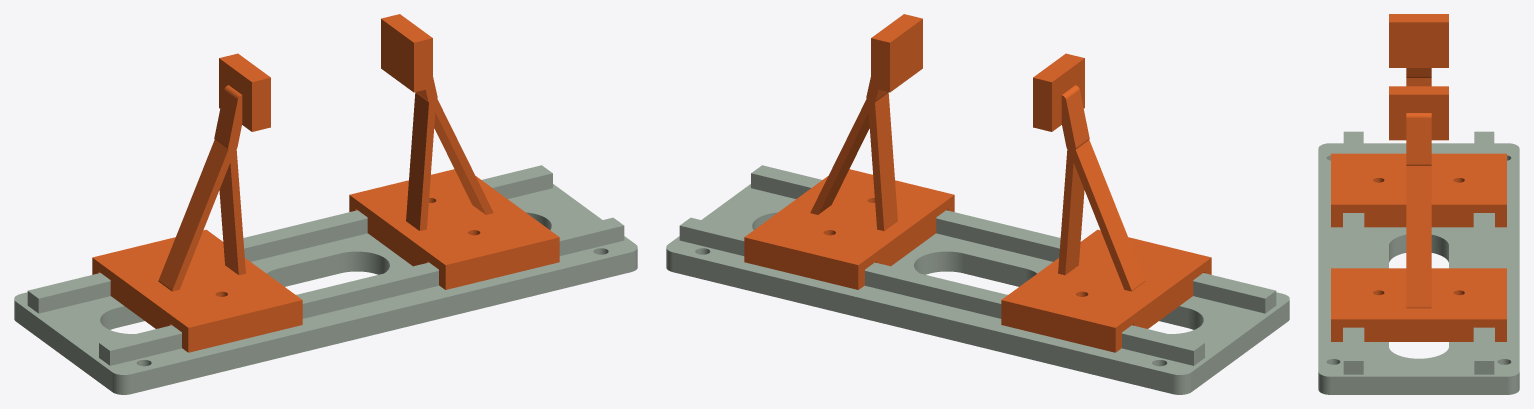
3 views of the same model, side by side, from view 1: azimuth 30°, elevation 25°; view 2: azimuth 150°, elevation 25°; view 3: azimuth 270°, elevation 25° (orthographic). The views are drawn at different scales.
Visible parts, largest first — view 1: base, left, right; view 2: base, left, right; view 3: base, right, left.
Part boxes in pixels (x1,y1,x2,y2): base: (14,165,637,394); left: (92,53,302,352); right: (349,14,559,289); base: (666,165,1289,394); left: (1001,53,1211,352); right: (744,14,954,289); base: (1318,131,1519,394); right: (1331,86,1506,341); left: (1331,14,1506,227).
Bounding box in the file's own units: 220 × 98.3 × 80.
